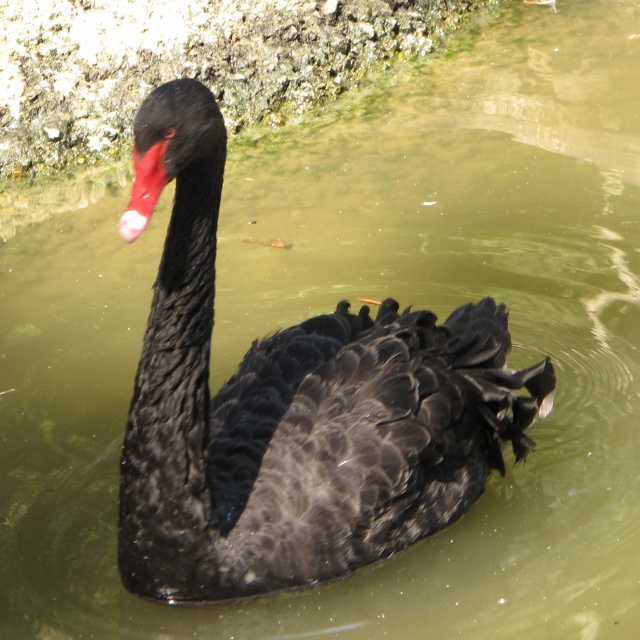Swan: (116, 77, 557, 608)
